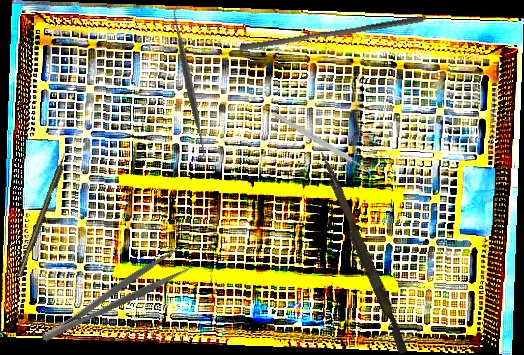Dressing Forceps: (33, 246, 191, 346)
Hook Surgical: (15, 147, 72, 278)
Pusher: (311, 150, 414, 355), (238, 8, 427, 58)
Scalpel Handle: (270, 110, 372, 174)
Spatula Surgical: (110, 3, 268, 161)
